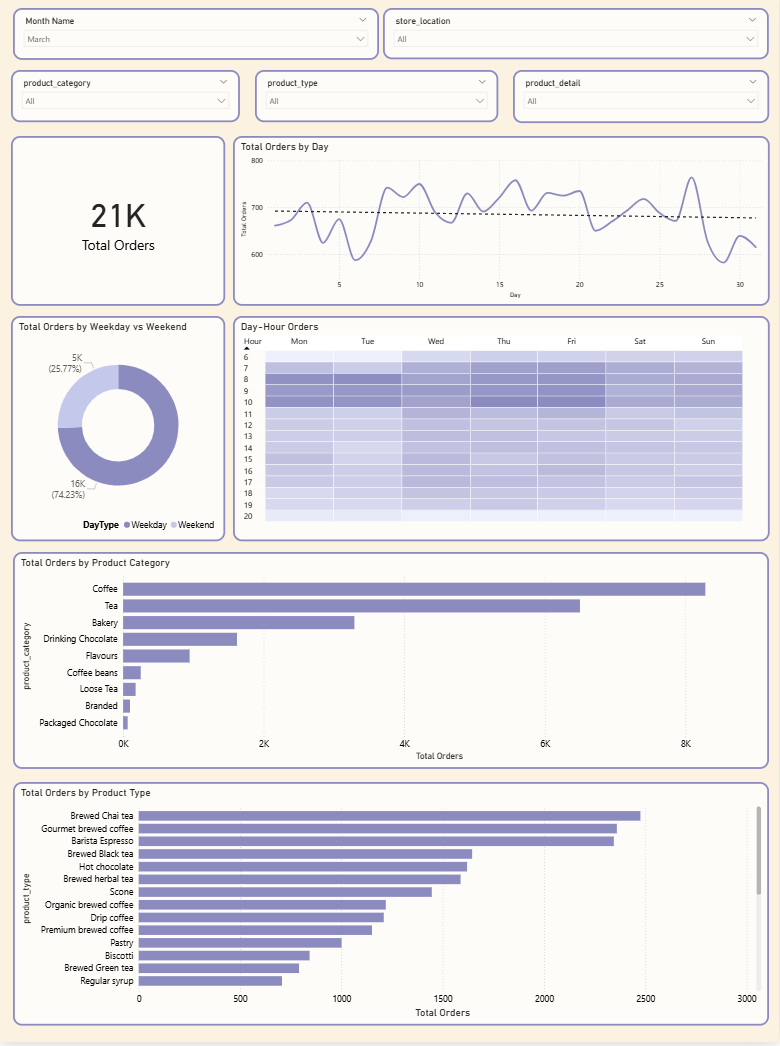

The page's visual inventory and layout, read from the dashboard file:
{"tool":"powerbi","page":{"name":"Orders Monthwise View","canvas":[1300,1750],"ordinal":2},"visuals":[{"type":"card","fields":{"Values":["Measure Table.Total Orders"]},"box":[20,241.4,357.1,282.9],"z":0},{"type":"slicer","fields":{"Values":["Coffee Shop Sales.store_location"]},"box":[640,27.1,642.9,85.7],"z":1000},{"type":"slicer","fields":{"Values":["Date.Month Name"]},"box":[21.7,26.7,610,86.7],"z":2000},{"type":"lineChart","fields":{"Category":["Date.Date.Variation.Date Hierarchy.Day"],"Y":["Measure Table.Total Orders"]},"box":[390,241.4,894.3,282.9],"z":3000},{"type":"pivotTable","title":"Day-Hour Orders","fields":{"Rows":["Coffee Shop Sales.Hour"],"Columns":["Date.DayShort"],"Values":["Measure Table.Total Orders"]},"box":[390,541.4,894.3,375.7],"z":4000},{"type":"clusteredBarChart","title":"Total Orders by Product Type","fields":{"Category":["Coffee Shop Sales.product_type"],"Y":["Measure Table.Total Orders"]},"box":[24,1318,1260,406],"z":5000},{"type":"barChart","title":"Total Orders by Product Category","fields":{"Category":["Coffee Shop Sales.product_category"],"Y":["Measure Table.Total Orders"]},"box":[23.3,933.3,1260,361.7],"z":7000},{"type":"slicer","fields":{"Values":["Coffee Shop Sales.product_category"]},"box":[20,130,381.4,87.1],"z":8000},{"type":"slicer","fields":{"Values":["Coffee Shop Sales.product_type"]},"box":[427.1,131.4,405.7,87.1],"z":9000},{"type":"slicer","fields":{"Values":["Coffee Shop Sales.product_detail"]},"box":[855.7,130,427.1,88.6],"z":10000},{"type":"donutChart","title":"Total Orders by Weekday vs Weekend","fields":{"Category":["Date.DayType"],"Y":["Measure Table.Total Orders"]},"box":[20,541.4,357.1,375.7],"z":11000}]}

Visuals, with their boxes in screenshot pixels (x1, y1, x2, y2), scaled from the page's 1300x1750 canvas onto the 780x1046 screenshot:
card - Measure Table.Total Orders: bbox(12, 144, 226, 313)
slicer - Coffee Shop Sales.store_location: bbox(384, 16, 770, 67)
slicer - Date.Month Name: bbox(13, 16, 379, 68)
lineChart - Date.Date.Variation.Date Hierarchy.Day x Measure Table.Total Orders: bbox(234, 144, 771, 313)
"Day-Hour Orders" pivotTable: bbox(234, 324, 771, 548)
"Total Orders by Product Type" clusteredBarChart: bbox(14, 788, 770, 1030)
"Total Orders by Product Category" barChart: bbox(14, 558, 770, 774)
slicer - Coffee Shop Sales.product_category: bbox(12, 78, 241, 130)
slicer - Coffee Shop Sales.product_type: bbox(256, 79, 500, 131)
slicer - Coffee Shop Sales.product_detail: bbox(513, 78, 770, 131)
"Total Orders by Weekday vs Weekend" donutChart: bbox(12, 324, 226, 548)
